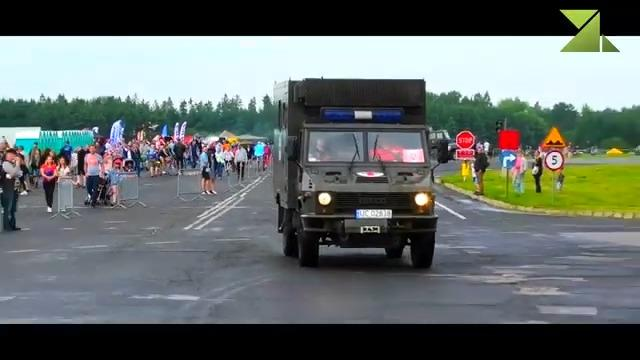MIL_HMMWV: (271, 79, 449, 270), (1, 147, 23, 234), (83, 145, 105, 208), (40, 155, 59, 214), (474, 146, 491, 195), (200, 146, 211, 195), (234, 143, 248, 180), (532, 150, 543, 194), (173, 138, 185, 175)
